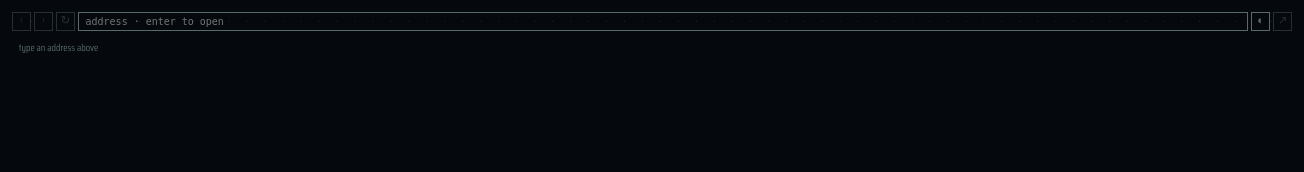
Scenario: WebWidget › in the browser, shows nothing until an address is opened
The image size is (1304, 172).
Expected: the text "type an address above" is shown, [19,40,98,55]
In the field with test id "web-address": (663, 21) [78,12,1248,31], type "example.com"
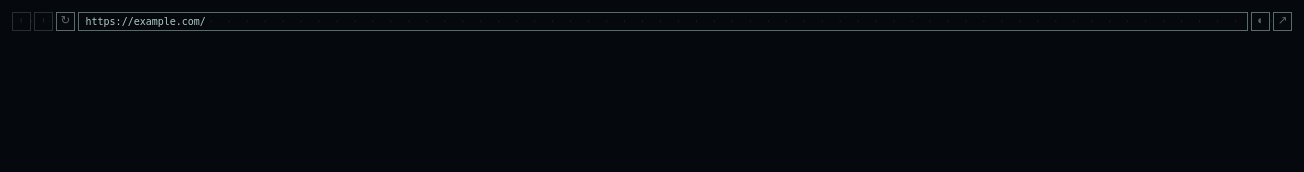
Result: the field with test id "web-address" holds "https://example.com/" at [78,12,1248,31]
